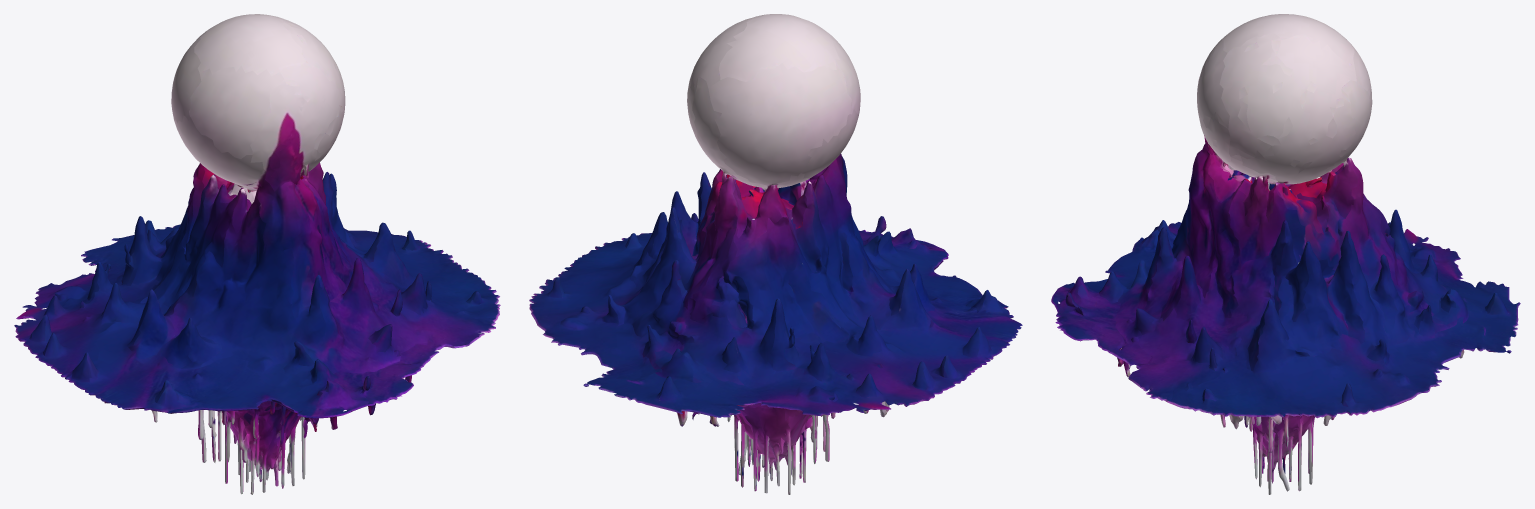
Rendered from outer-shoal-south-generated-2026-05-17T20-59-12-373Z.high.glb.
3 views of the same model, side by side, from view 1: azimuth 30°, elevation 25°; view 2: azimuth 150°, elevation 25°; view 3: azimuth 270°, elevation 25° (orthographic).
Parts seen in each view (by area): view 1: temp_mesh.ply; view 2: temp_mesh.ply; view 3: temp_mesh.ply.
Boxes of the visible parts, x1,y1,x2,y2 form: temp_mesh.ply: [14, 14, 500, 494]; temp_mesh.ply: [529, 14, 1022, 494]; temp_mesh.ply: [1051, 14, 1520, 494].
Size of the model in its own units: 1.86 by 1.98 by 1.84.
1 material, 1 textured.
